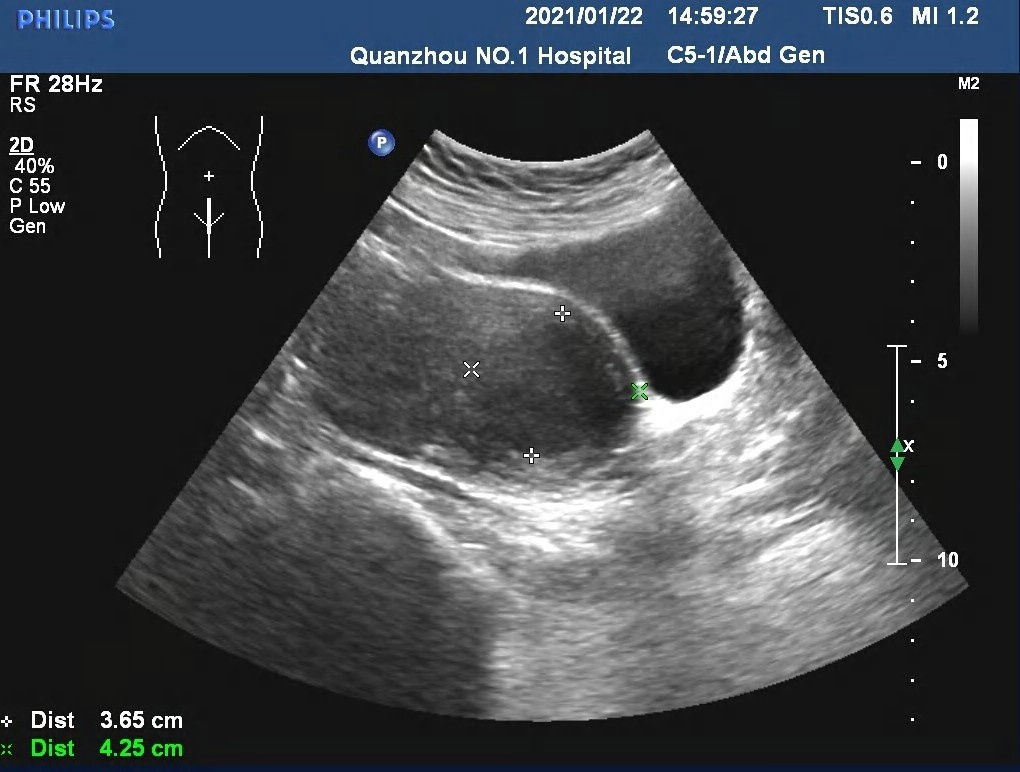肌瘤: (474, 315, 642, 456)
